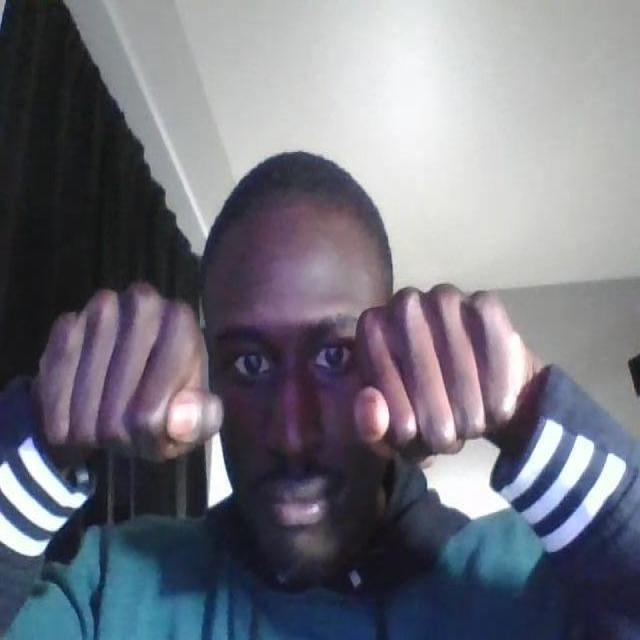no-helmet: (203, 276, 386, 575)
